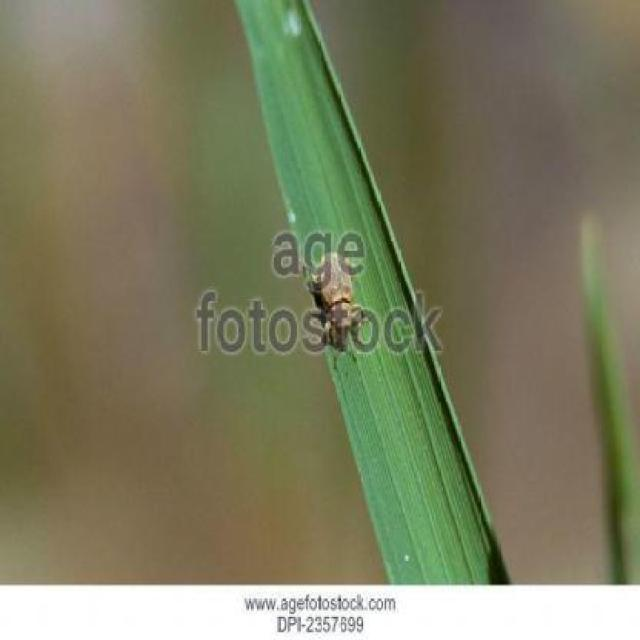rice-bug: (308, 247, 367, 359)
